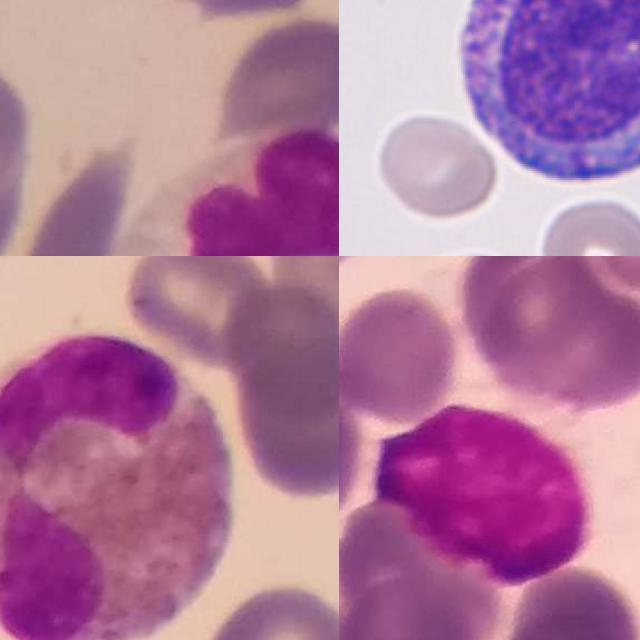Eosinophil: (0, 332, 242, 640)
Lymphocyte: (370, 403, 596, 591), (441, 0, 640, 197)
Monocyte: (128, 125, 339, 256)
RBC: (373, 109, 499, 224), (535, 192, 640, 256)
